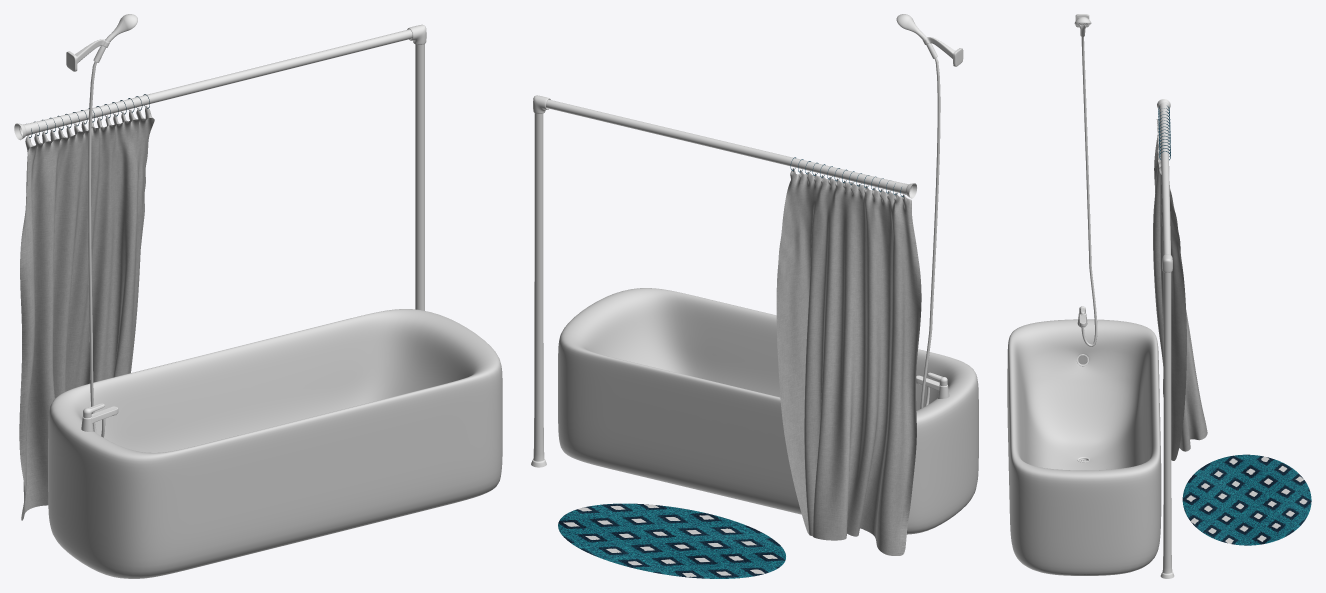
The model's file is tub.glb.
3 renders of one model, left to right at view 1: azimuth 30°, elevation 25°; view 2: azimuth 150°, elevation 25°; view 3: azimuth 270°, elevation 25°, orthographic. The views are drawn at different scales.
Visible parts, largest first — view 1: bath, bath_bath_fabric_0.001, bath_metal_0.001, bailer_hose; view 2: bath, bath_bath_fabric_0.001, bath_metal_0.001, bailer_hose; view 3: bath, bath_metal_0.001, bath_bath_fabric_0.001, bailer_hose.
Boxes of the visible parts, x1=… form: bath: x1=19, y1=14, x2=502, y2=578; bath_bath_fabric_0.001: x1=23, y1=115, x2=154, y2=517; bath_metal_0.001: x1=14, y1=29, x2=424, y2=310; bailer_hose: x1=88, y1=61, x2=105, y2=437; bath: x1=533, y1=14, x2=978, y2=578; bath_bath_fabric_0.001: x1=776, y1=174, x2=918, y2=555; bath_metal_0.001: x1=531, y1=24, x2=937, y2=467; bailer_hose: x1=920, y1=57, x2=940, y2=408; bath: x1=1007, y1=14, x2=1311, y2=575; bath_metal_0.001: x1=1075, y1=22, x2=1174, y2=578; bath_bath_fabric_0.001: x1=1153, y1=121, x2=1207, y2=460; bailer_hose: x1=1081, y1=37, x2=1097, y2=346.
Bounding box in the file's own units: 2.97 × 3.64 × 2.35.
Materials: 4 (2 with a texture image).
